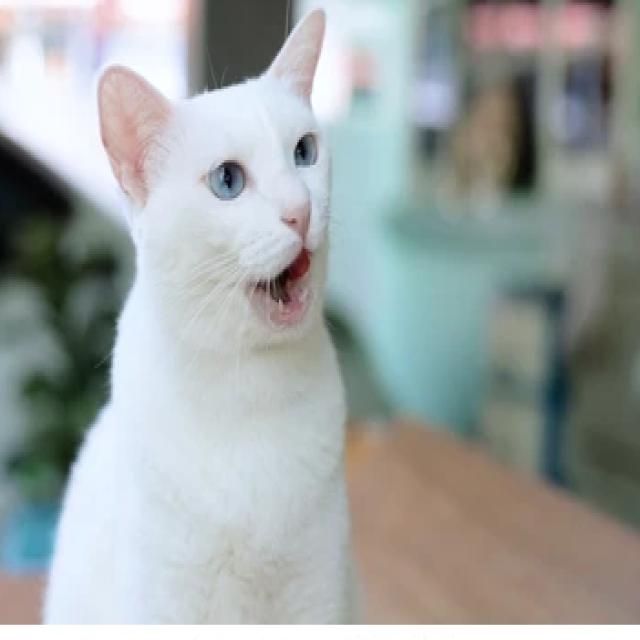Khao Manee: (40, 4, 368, 624)
